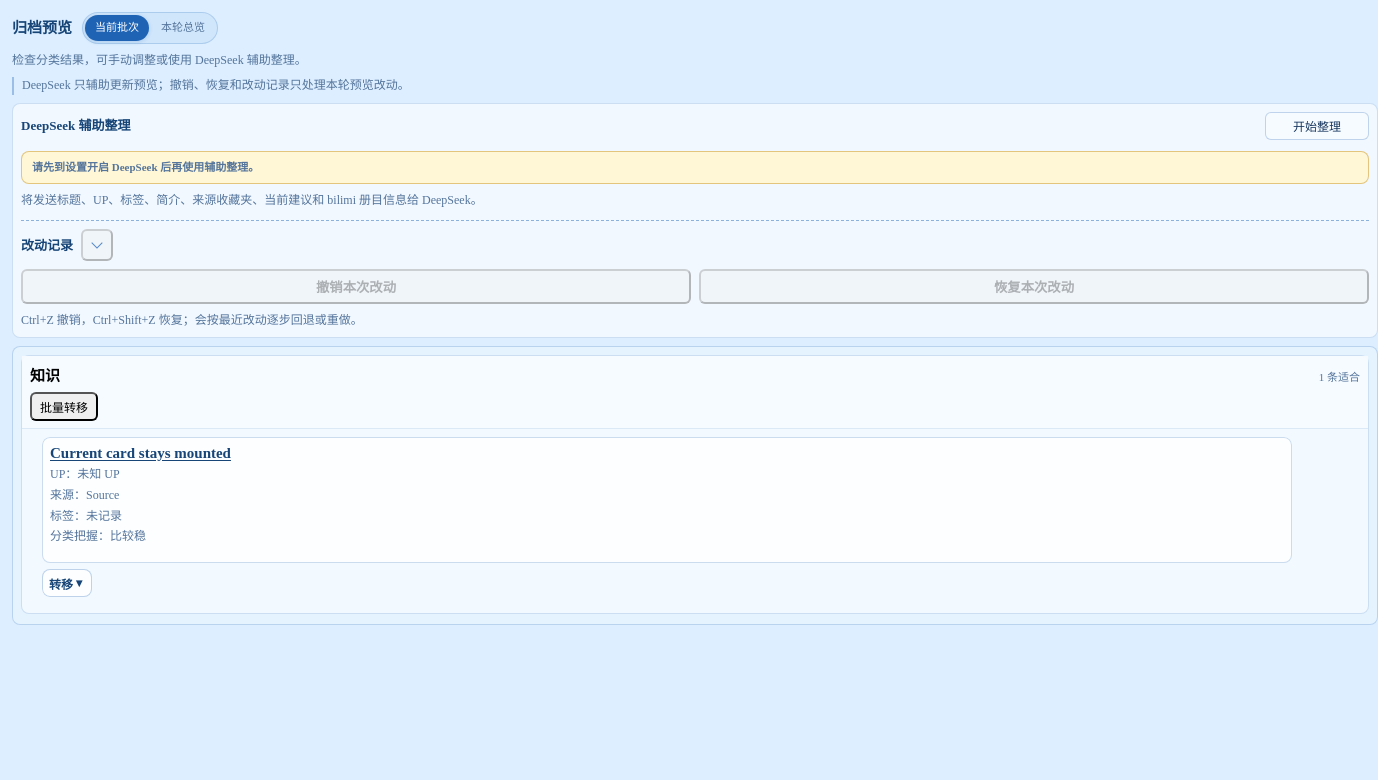
Test: OldFavoriteArchivePreviewStep › keeps the current card tree mounted while a multi-batch archive switches to its compact whole-run overview
Expected: the element named "归档预览视图" is shown, [82,12,218,44]
Expected: the text "Current card stays mounted" is shown, [50,445,231,461]
Click the button "本轮总览".
click(183, 28)  # box [151,15,215,41]
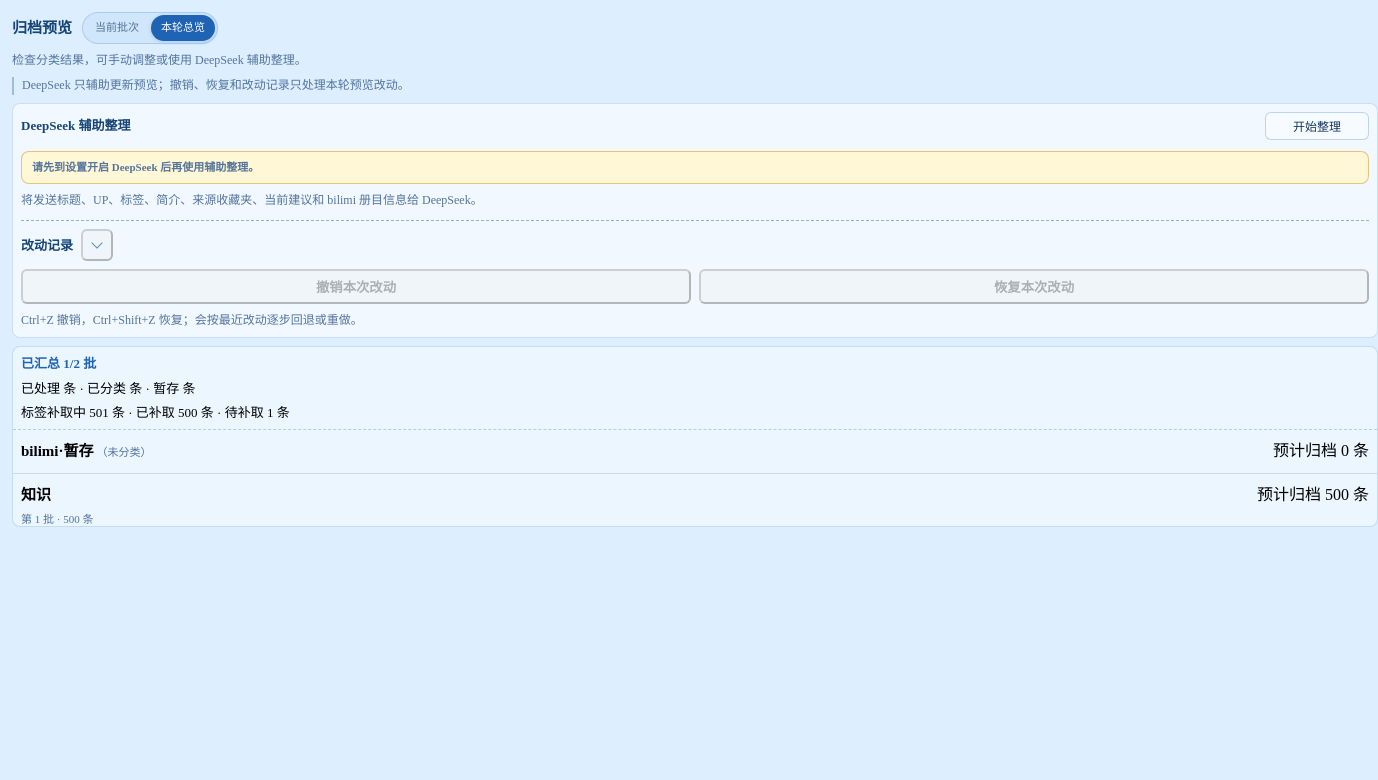
Expected: the text "已汇总 1/2 批" is shown, [21,356,96,371]
Expected: the text "知识" is shown, [21,483,51,504]
Expected: the text "预计归档 500 条" is shown, [1257,481,1369,505]
